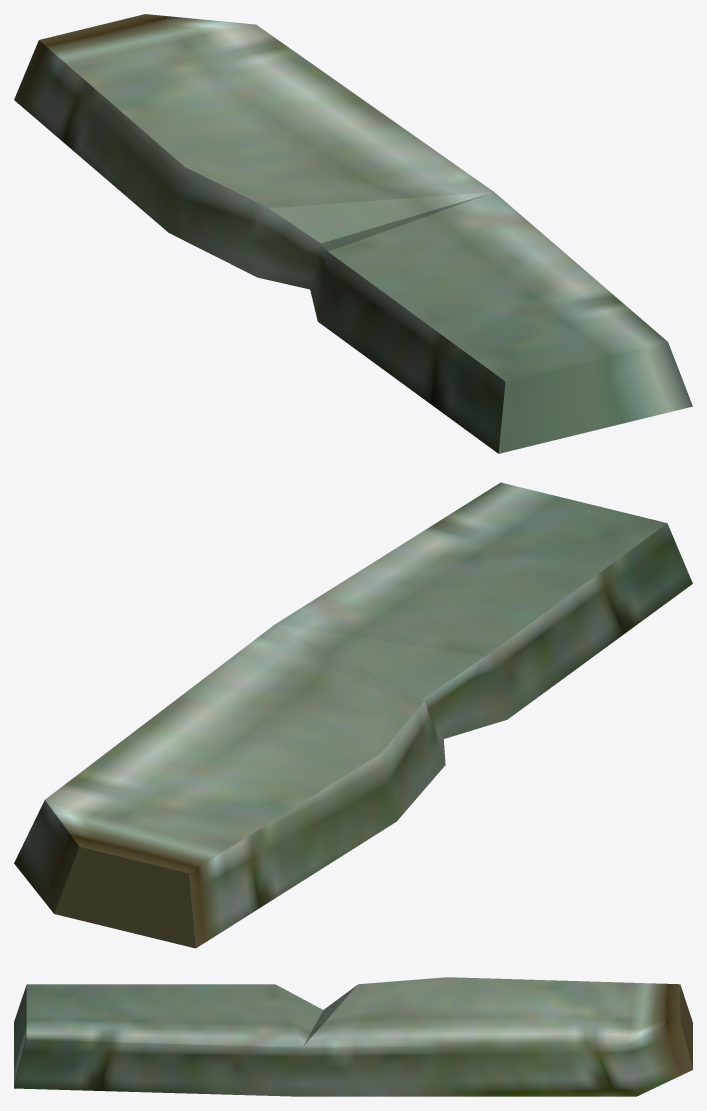
Rendered from zhuan01.FBX.
The picture shows the model from 3 angles, top to bottom: view 1: azimuth 30°, elevation 25°; view 2: azimuth 150°, elevation 25°; view 3: azimuth 270°, elevation 25°; orthographic projection. The views are drawn at different scales.
Parts seen in each view (by area): view 1: Object154; view 2: Object154; view 3: Object154.
Part boxes in pixels (<box>): Object154: <box>14,14,692,453</box>; Object154: <box>14,482,692,948</box>; Object154: <box>14,977,692,1096</box>.
Bounding box in the file's own units: 42.59 × 10.72 × 150.
